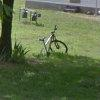Bicycle: (34, 21, 70, 59)
